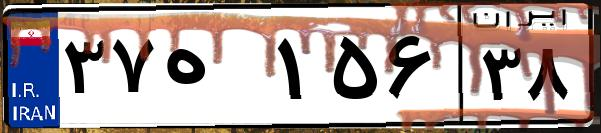1: (270, 28, 330, 110)
3: (57, 26, 110, 100), (475, 38, 525, 113)
5: (330, 28, 385, 110)
6: (385, 28, 445, 110)
7: (110, 28, 158, 98)
8: (525, 38, 570, 115)
ه: (158, 20, 270, 120)
